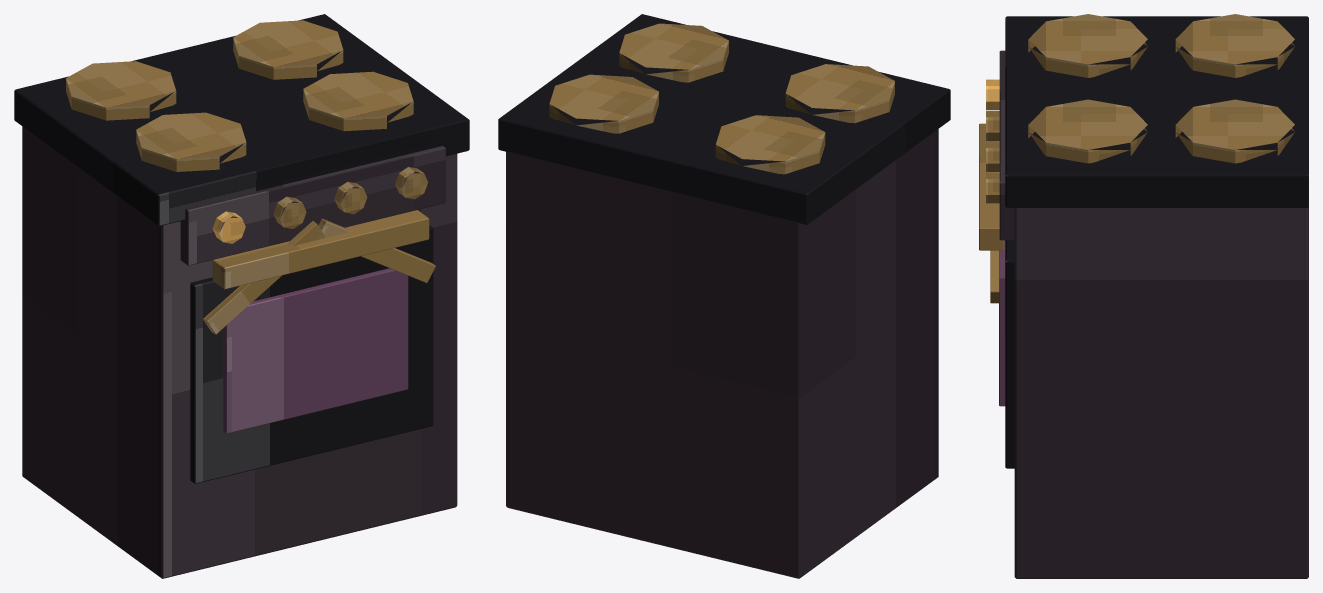
File: gothic_kitchen_stove.glb
The picture shows the model from 3 angles, left to right: view 1: azimuth 30°, elevation 25°; view 2: azimuth 150°, elevation 25°; view 3: azimuth 270°, elevation 25°; orthographic projection. The views are drawn at different scales.
Visible parts, largest first — view 1: RangeBody, Cooktop, OvenWindow, OvenDoor, RangeControls, OvenHandle, Burner_3, Burner_4, Burner_1, Burner_2, OvenArchLeft, OvenArchRight (+4 smaller); view 2: RangeBody, Cooktop, Burner_3, Burner_4, Burner_2, Burner_1; view 3: RangeBody, Cooktop, Burner_3, Burner_1, Burner_4, Burner_2, OvenDoor, OvenHandle, RangeControls, OvenWindow, OvenArchRight, RangeKnob_4 (+3 smaller).
Part boxes in pixels (<box>): RangeBody: <box>22,126,457,578</box>; Cooktop: <box>14,14,469,226</box>; OvenWindow: <box>223,268,408,433</box>; OvenDoor: <box>190,225,433,483</box>; RangeControls: <box>180,146,445,265</box>; OvenHandle: <box>212,210,429,289</box>; Burner_3: <box>66,61,176,120</box>; Burner_4: <box>233,20,343,79</box>; Burner_1: <box>136,112,246,171</box>; Burner_2: <box>303,71,413,131</box>; OvenArchLeft: <box>203,221,325,334</box>; OvenArchRight: <box>318,218,435,283</box>; RangeBody: <box>506,129,938,578</box>; Cooktop: <box>498,14,950,224</box>; Burner_3: <box>715,115,825,174</box>; Burner_4: <box>549,74,658,133</box>; Burner_2: <box>619,23,728,82</box>; Burner_1: <box>785,64,894,123</box>; RangeBody: <box>1014,175,1308,578</box>; Cooktop: <box>1005,16,1308,207</box>; Burner_3: <box>1175,14,1294,77</box>; Burner_1: <box>1028,14,1147,77</box>; Burner_4: <box>1175,99,1294,163</box>; Burner_2: <box>1028,99,1147,163</box>; OvenDoor: <box>1005,240,1014,468</box>; OvenHandle: <box>979,123,1004,250</box>; RangeControls: <box>999,50,1014,240</box>; OvenWindow: <box>999,240,1006,406</box>; OvenArchRight: <box>990,172,999,303</box>; RangeKnob_4: <box>986,173,1000,203</box>.
Bounding box in the file's own units: 0.82 × 1.01 × 0.7175.
Materials: 1 (1 with a texture image).
